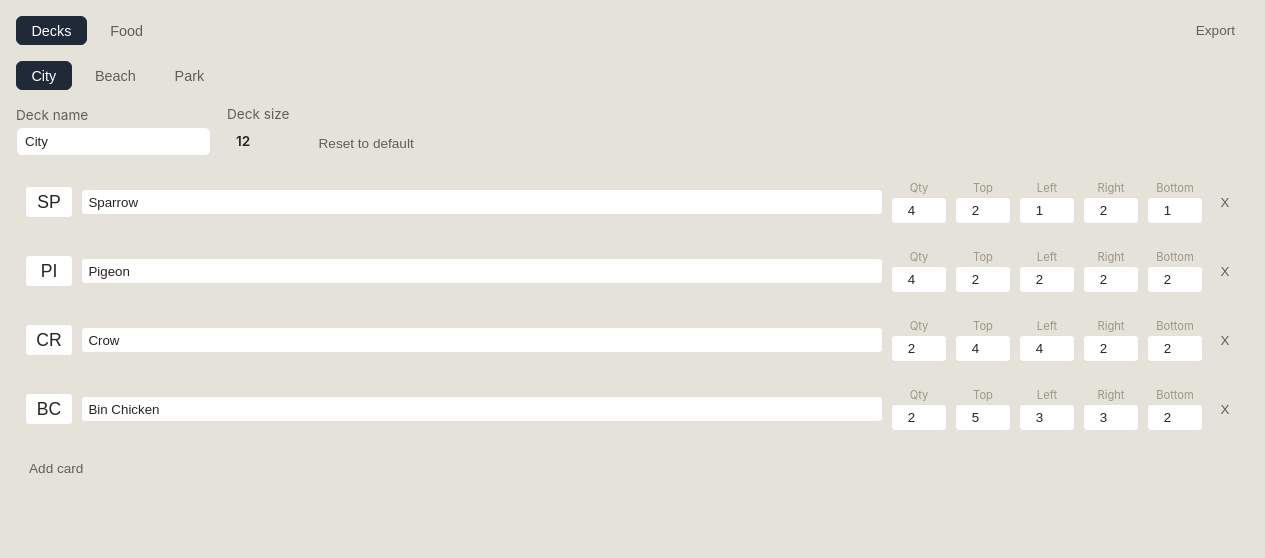
ManagePage › adds and removes cards from the active deck
Click the button "Add card": (56, 468) [16, 456, 96, 480]
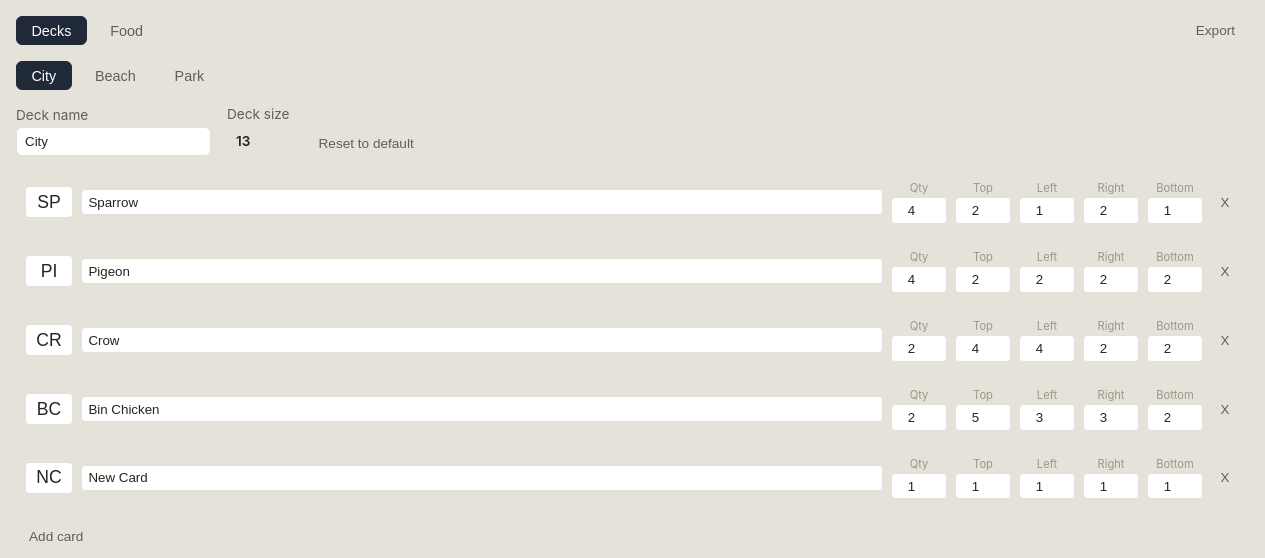
Check: the number of elements with class "manage-card-row" is 5, box [16, 172, 1248, 233]; [16, 240, 1248, 302]; [16, 310, 1248, 370]; [16, 378, 1248, 440]; [16, 448, 1248, 508]
Click the button named "Remove": (1225, 478) [1211, 464, 1239, 492]
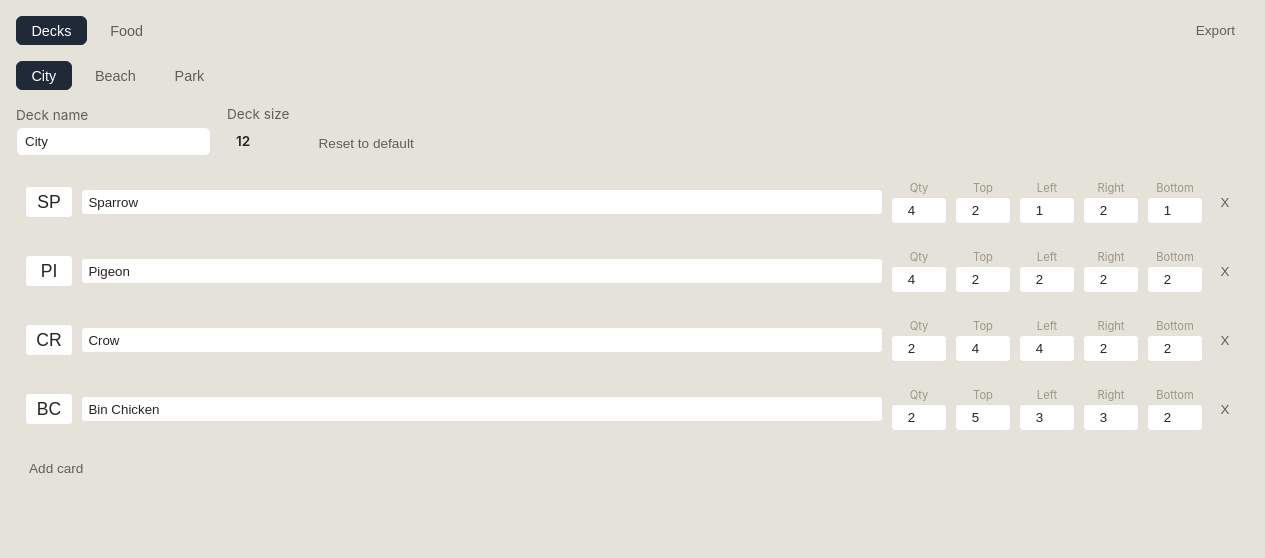
Check: the number of elements with class "manage-card-row" is 4, box [16, 172, 1248, 233]; [16, 240, 1248, 302]; [16, 310, 1248, 370]; [16, 378, 1248, 440]
